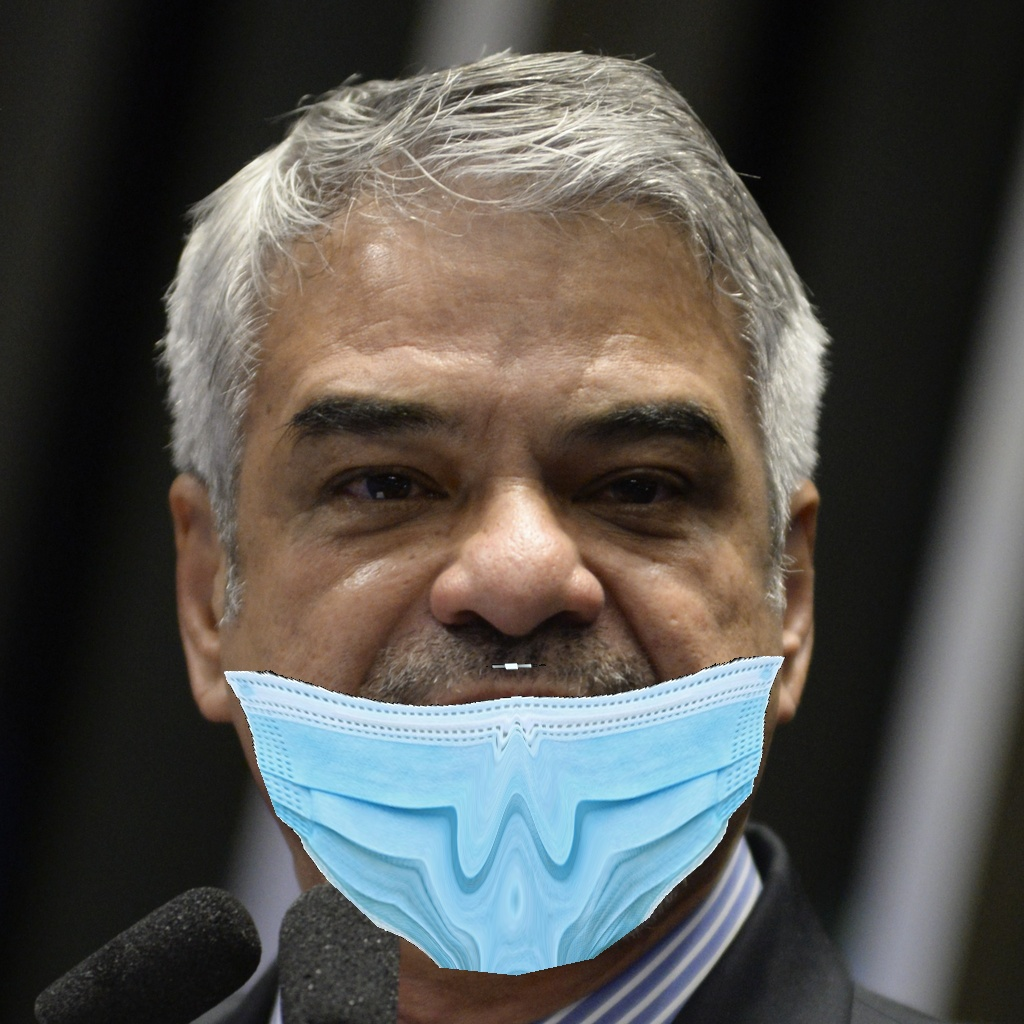mask_weared_incorrect: (224, 402, 782, 987)
